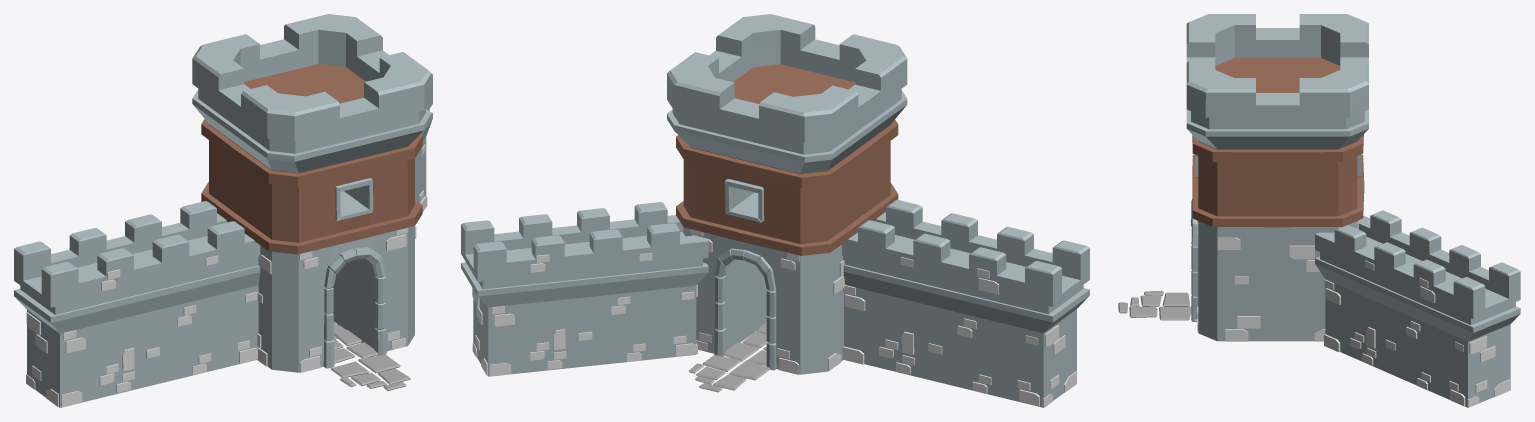
File: burgruine.fbx
3 renders of one model, left to right at view 1: azimuth 30°, elevation 25°; view 2: azimuth 150°, elevation 25°; view 3: azimuth 270°, elevation 25°, orthographic. The views are drawn at different scales.
Visible parts, largest first — view 1: Cube, Cube.010, Cube.001, Cube.002, Cube.014, Plane, Cube.016, Cube.013, Cube.004, Plane.003, Cube.006; view 2: Cube, Cube.010, Cube.004, Cube.001, Cube.002, Cube.011, Plane.004, Cube.016, Plane.002, Cube.013; view 3: Cube, Cube.004, Cube.002, Cube.001, Cube.006, Plane.
Part boxes in pixels (x1,y1,x2,y2): Cube: [192, 14, 431, 372]; Cube.010: [14, 201, 260, 407]; Cube.001: [201, 119, 422, 186]; Cube.002: [201, 182, 422, 254]; Cube.014: [63, 255, 257, 392]; Plane: [331, 354, 410, 390]; Cube.016: [299, 227, 408, 372]; Cube.013: [26, 312, 159, 407]; Cube.004: [415, 74, 432, 211]; Plane.003: [333, 329, 387, 363]; Cube.006: [257, 226, 416, 366]; Cube: [667, 14, 907, 374]; Cube.010: [842, 199, 1089, 407]; Cube.004: [461, 202, 708, 376]; Cube.001: [676, 120, 898, 187]; Cube.002: [676, 183, 898, 255]; Cube.011: [843, 257, 1039, 406]; Plane.004: [689, 354, 770, 392]; Cube.016: [690, 229, 799, 374]; Plane.002: [724, 331, 767, 365]; Cube.013: [1042, 325, 1076, 407]; Cube: [1186, 14, 1368, 341]; Cube.004: [1315, 210, 1520, 407]; Cube.002: [1192, 154, 1364, 227]; Cube.001: [1192, 134, 1363, 162]; Cube.006: [1217, 237, 1325, 341]; Plane: [1118, 290, 1191, 320].
Size of the model in its own units: 704 by 355 by 506.
